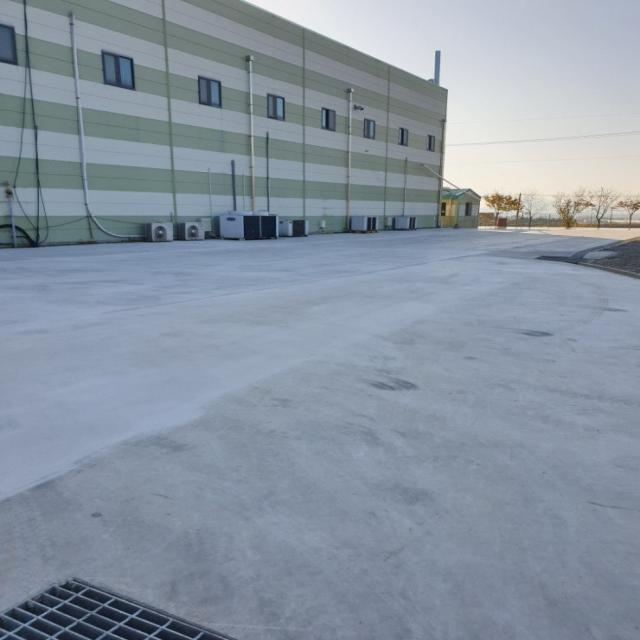cement: (0, 228, 639, 639)
